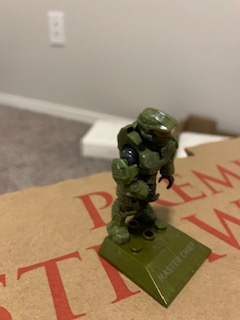chief: (108, 107, 180, 243)
spartan: (106, 105, 178, 241)
